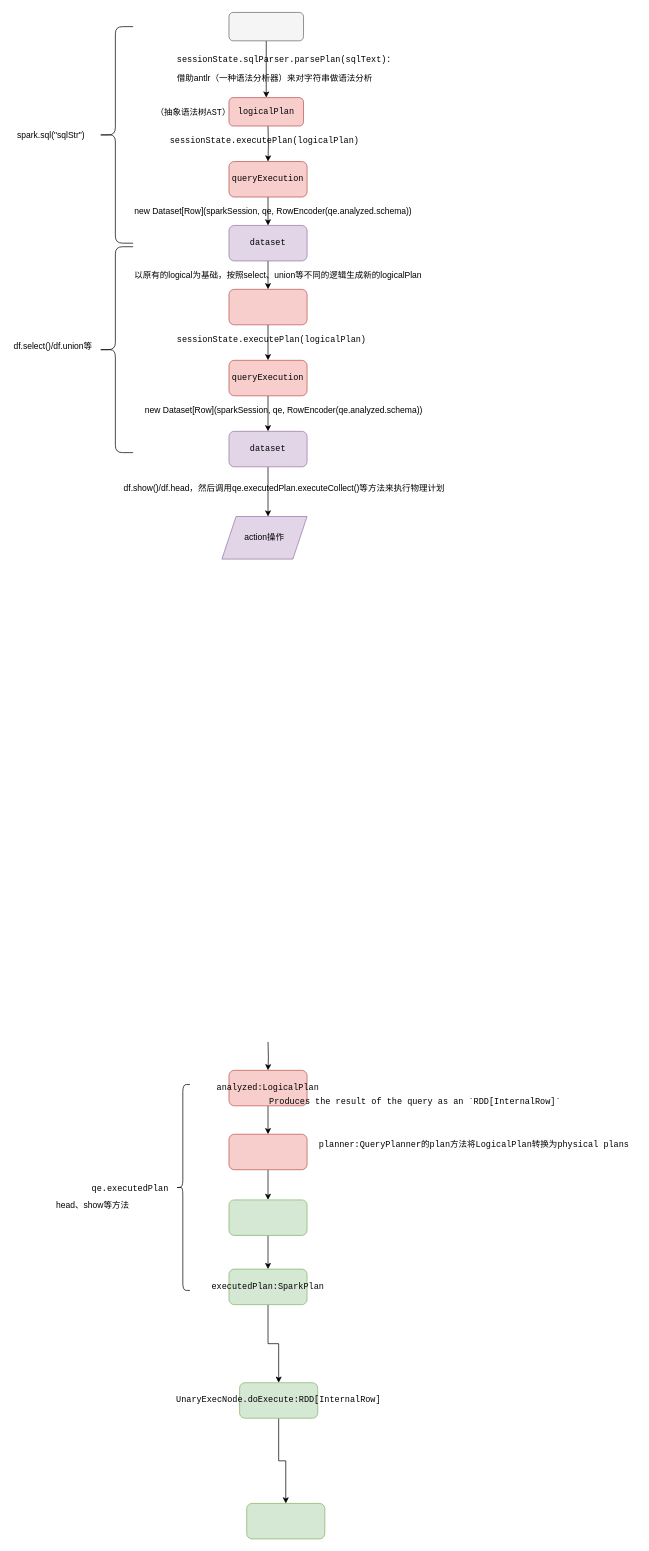
Image size: 649x1551. Some labels were removed from this diagram. The shapes that lost their labels are listed below. From the top down, each one's box as (x1, y1, x2, y2) in pixels, then its label:
(228, 12, 304, 41): sql语句
(228, 289, 307, 325): 新的logicalPlan
(228, 1134, 307, 1170): optimizedPlan: LogicalPlan
(228, 1199, 307, 1235): sparkPlan: SparkPlan
(246, 1503, 325, 1539): 执行rdd的action操作
